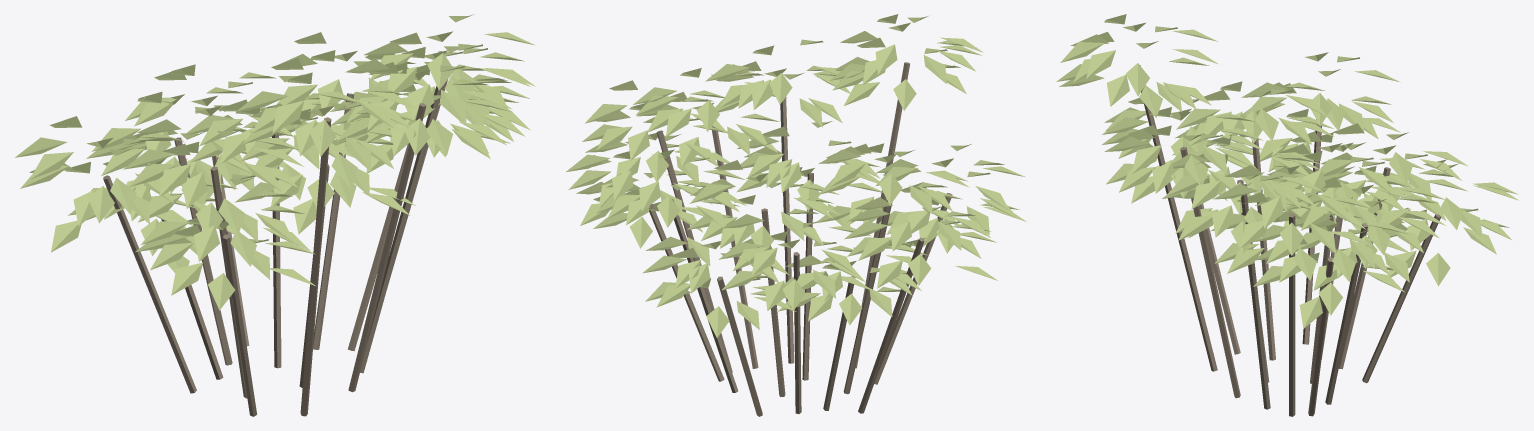
File: dining-variegated.glb
3 views of the same model, side by side, from view 1: azimuth 30°, elevation 25°; view 2: azimuth 150°, elevation 25°; view 3: azimuth 270°, elevation 25° (orthographic). The views are drawn at different scales.
Parts seen in each view (by area): view 1: dining-variegated; view 2: dining-variegated; view 3: dining-variegated.
Boxes of the visible parts, x1,y1,x2,y2 form: dining-variegated: (15,14,535,416); dining-variegated: (566,14,1026,416); dining-variegated: (1056,14,1518,416).
Size of the model in its own units: 2.61 by 1.91 by 2.44.
